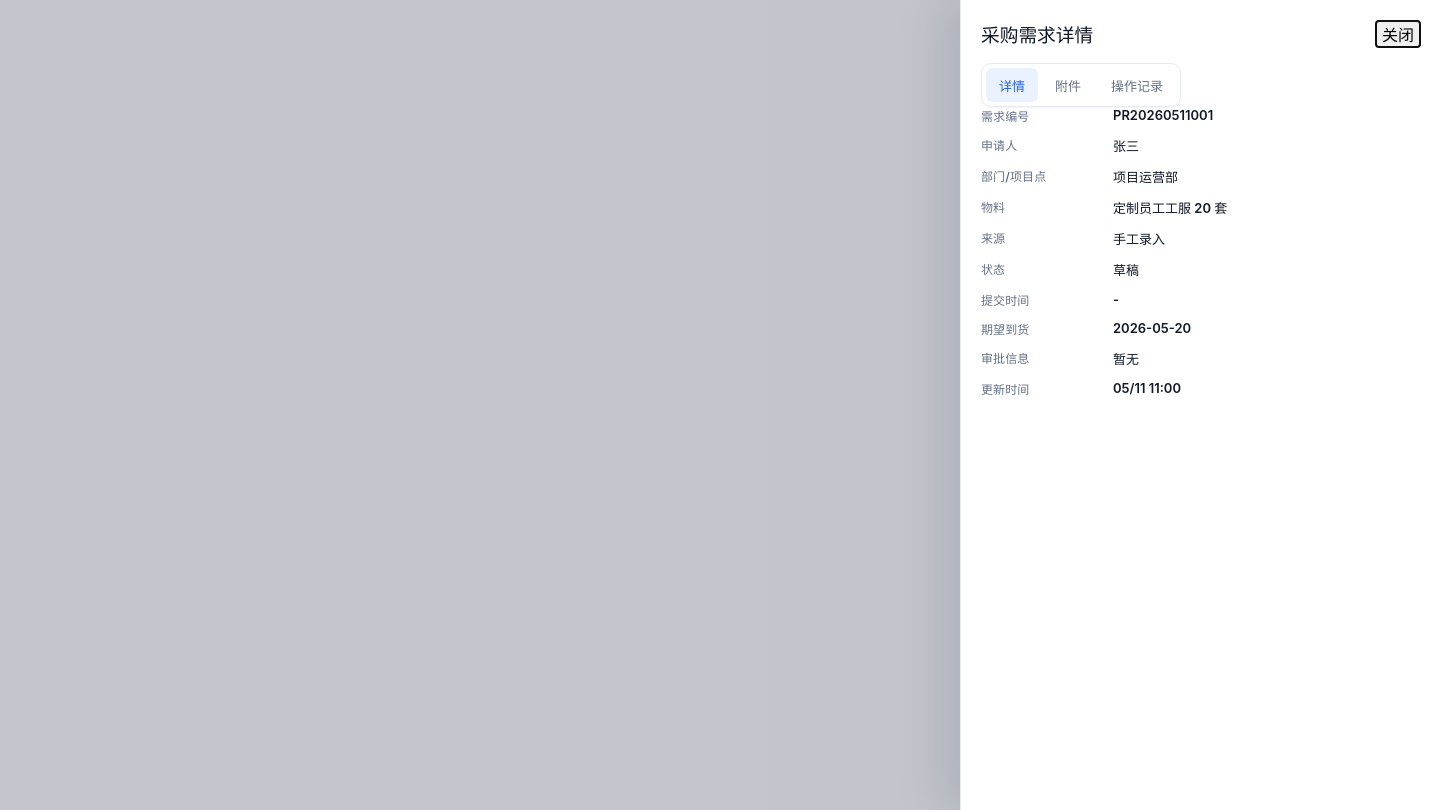
Test: purchase request activity timeline › loads audit logs only when the activity tab is opened
Expected: the text "需求编号" is shown, x1=981 y1=109 x2=1030 y2=124
Click the tab "操作记录": (1137, 85) x1=1098 y1=68 x2=1176 y2=102
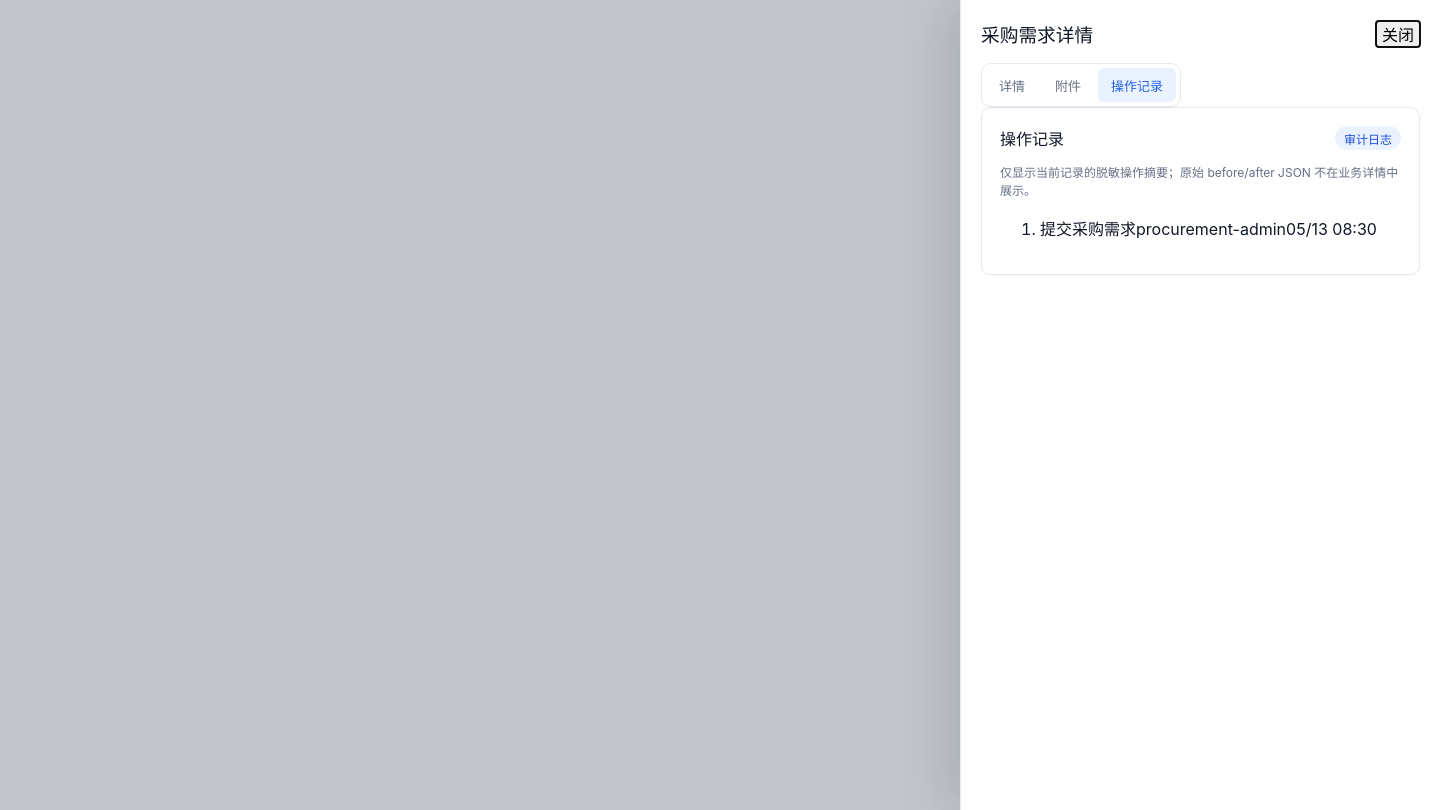
Expected: the text "提交采购需求" is shown, x1=1040 y1=219 x2=1136 y2=239
Expected: the text "procurement-admin" is shown, x1=1136 y1=219 x2=1286 y2=239
